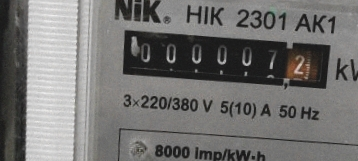0: (137, 39, 153, 64), (214, 42, 230, 66), (239, 43, 254, 68), (189, 41, 204, 65), (163, 41, 178, 64)
2: (291, 52, 306, 76)
7: (265, 46, 279, 71)
screen: (109, 15, 341, 101)
